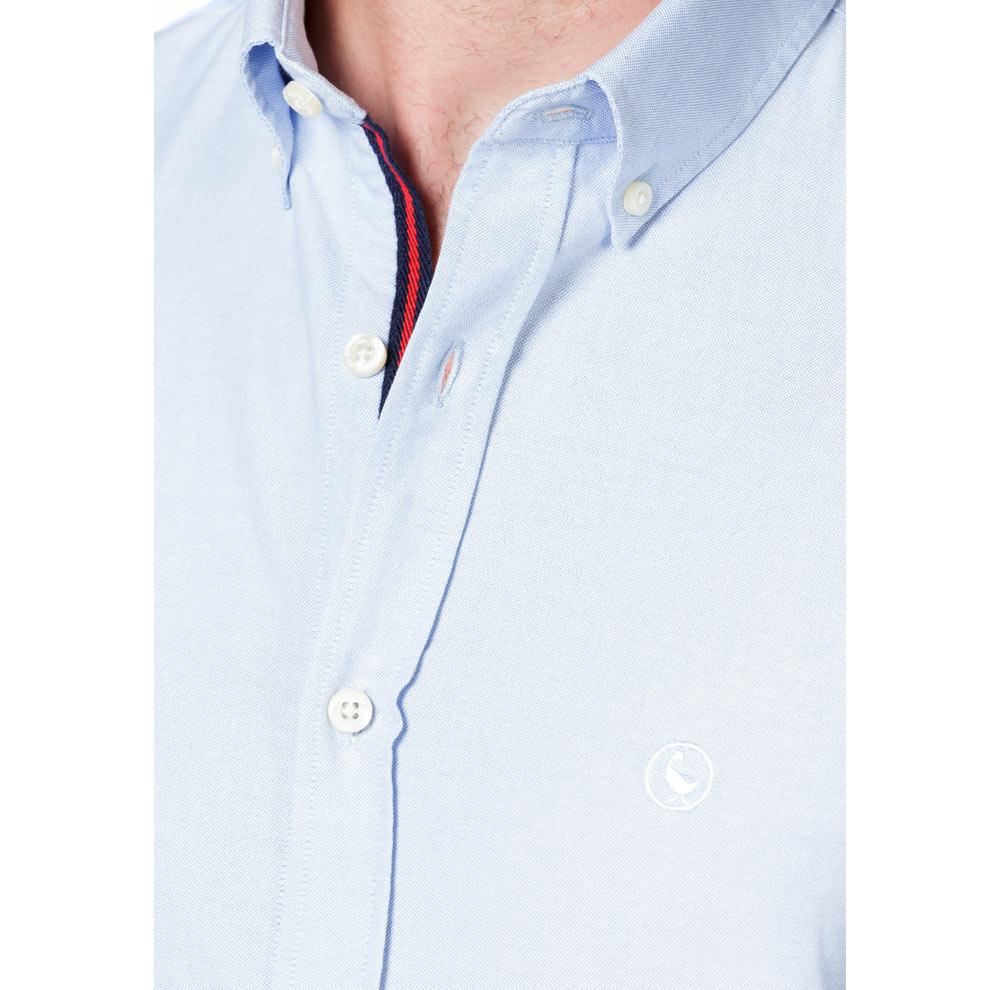teeshirt: (150, 4, 851, 990)
